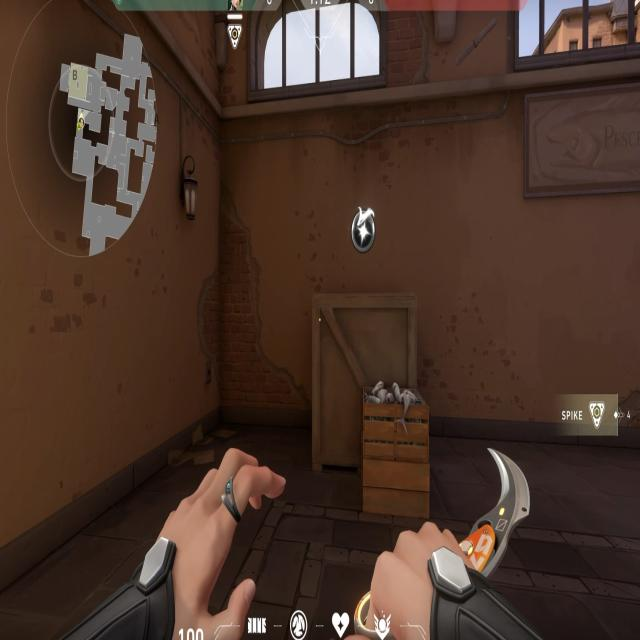B_Main_Wallbang: (310, 195, 450, 526)
Throwables: (246, 0, 390, 108), (504, 1, 640, 82)
